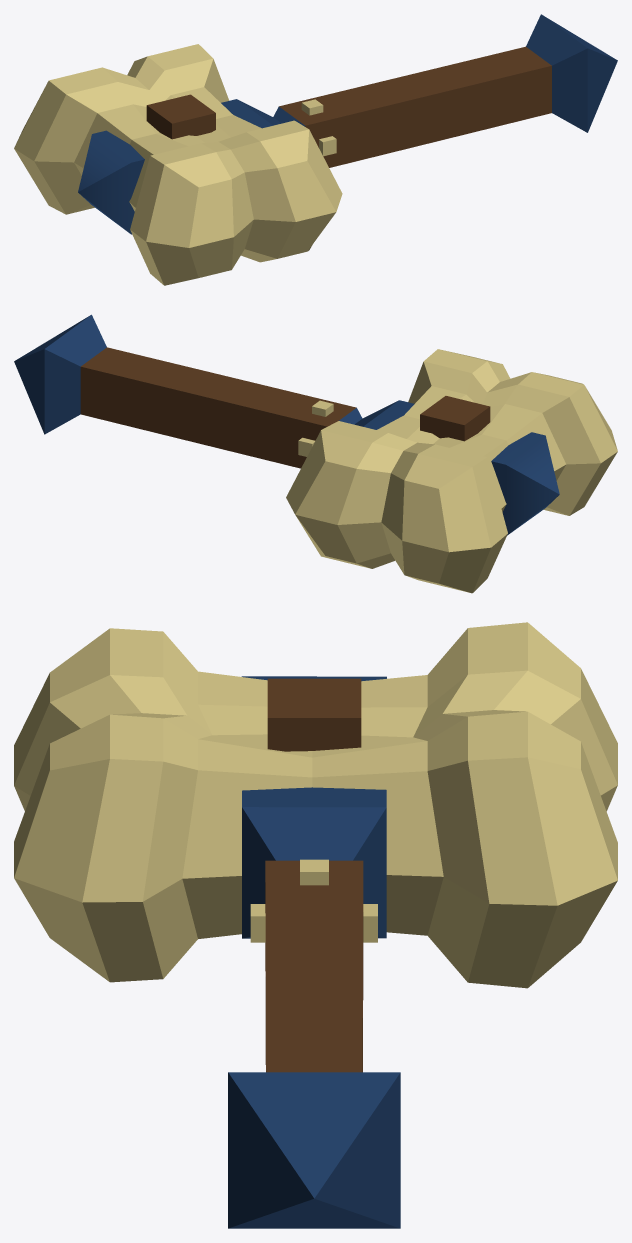
File: hamerUvTest2.fbx
3 renders of one model, top to bottom at view 1: azimuth 30°, elevation 25°; view 2: azimuth 150°, elevation 25°; view 3: azimuth 270°, elevation 25°, orthographic. The views are drawn at different scales.
Visible parts, largest first — view 1: wapen_hamer; view 2: wapen_hamer; view 3: wapen_hamer.
Boxes of the visible parts, x1=… form: wapen_hamer: x1=14, y1=14, x2=617, y2=285; wapen_hamer: x1=14, y1=314, x2=617, y2=593; wapen_hamer: x1=14, y1=622, x2=617, y2=1228.
Size of the model in its own units: 12.29 by 2.72 by 6.45.
